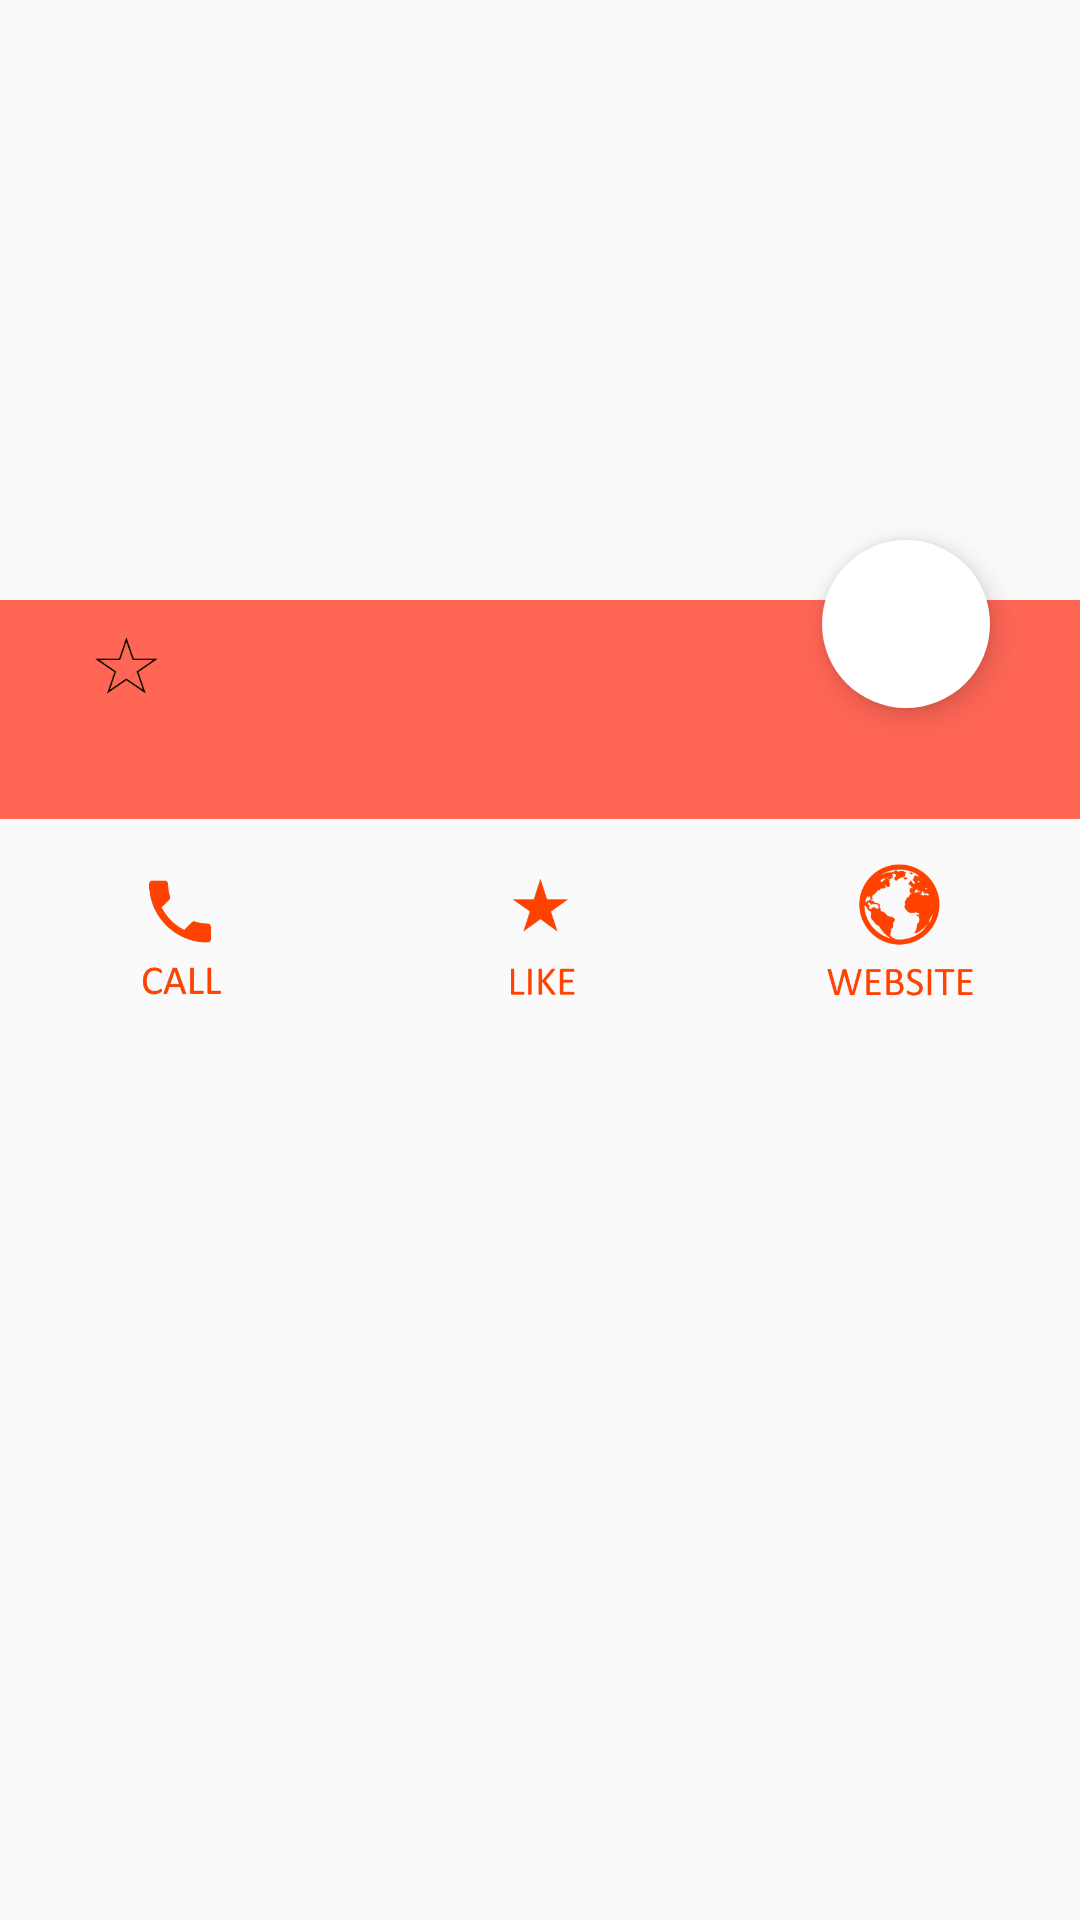

Icon click points for this 1080 x 1920 phone screenshot, format point (x, y):
0star border: point (126, 665)
star rate: point (543, 937)
